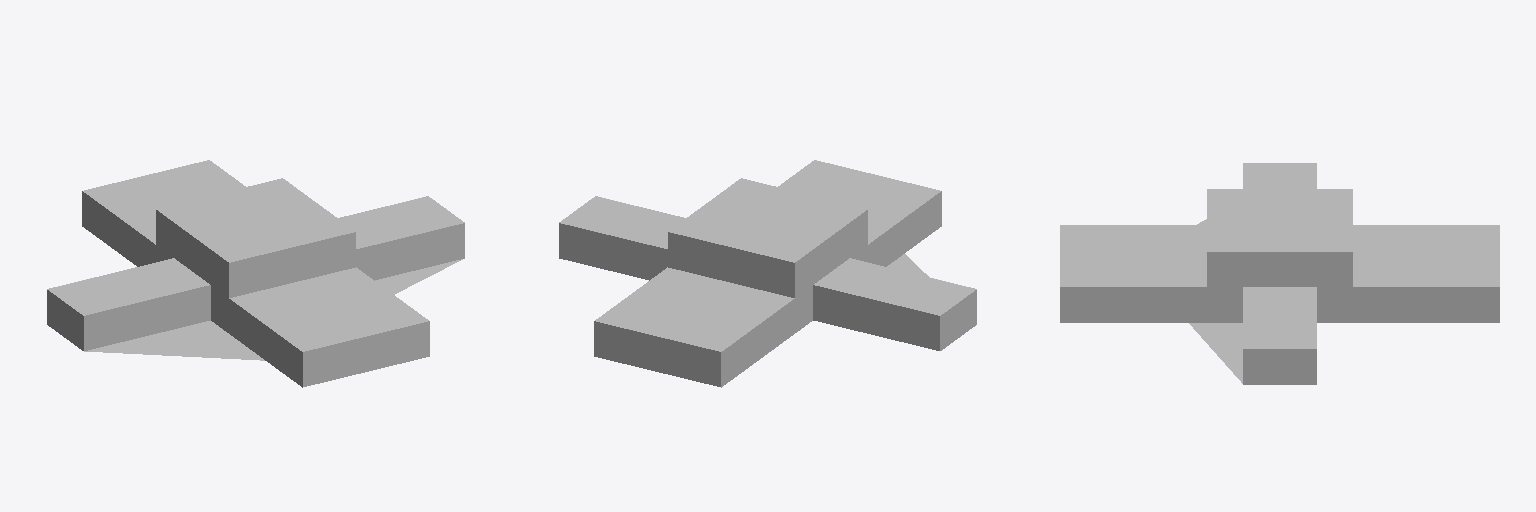
The model's file is plate-trap.obj.
The picture shows the model from 3 angles: view 1: azimuth 30°, elevation 25°; view 2: azimuth 150°, elevation 25°; view 3: azimuth 270°, elevation 25°; orthographic projection.
Parts seen in each view (by area): view 1: Cube; view 2: Cube; view 3: Cube.
Boxes of the visible parts, <box> form: Cube: <box>47,160,464,387</box>; Cube: <box>559,160,976,387</box>; Cube: <box>1060,163,1499,384</box>.
Bounding box in the file's own units: 1.12 × 0.2 × 1.12.